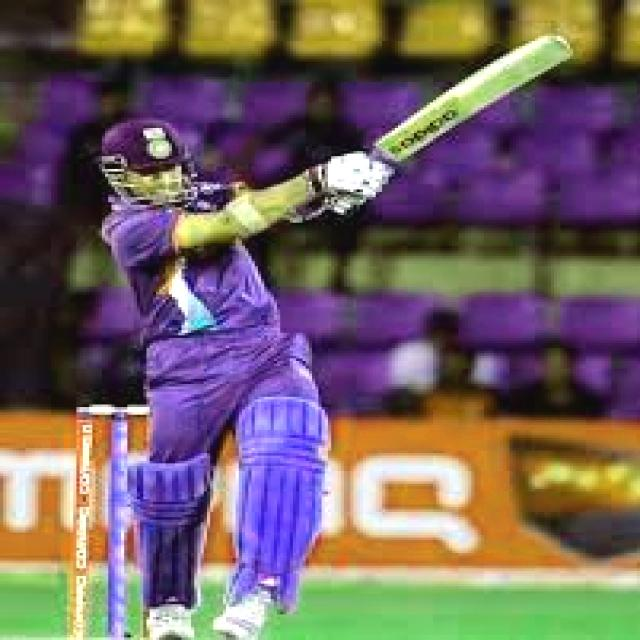toe: (530, 27, 582, 64)
